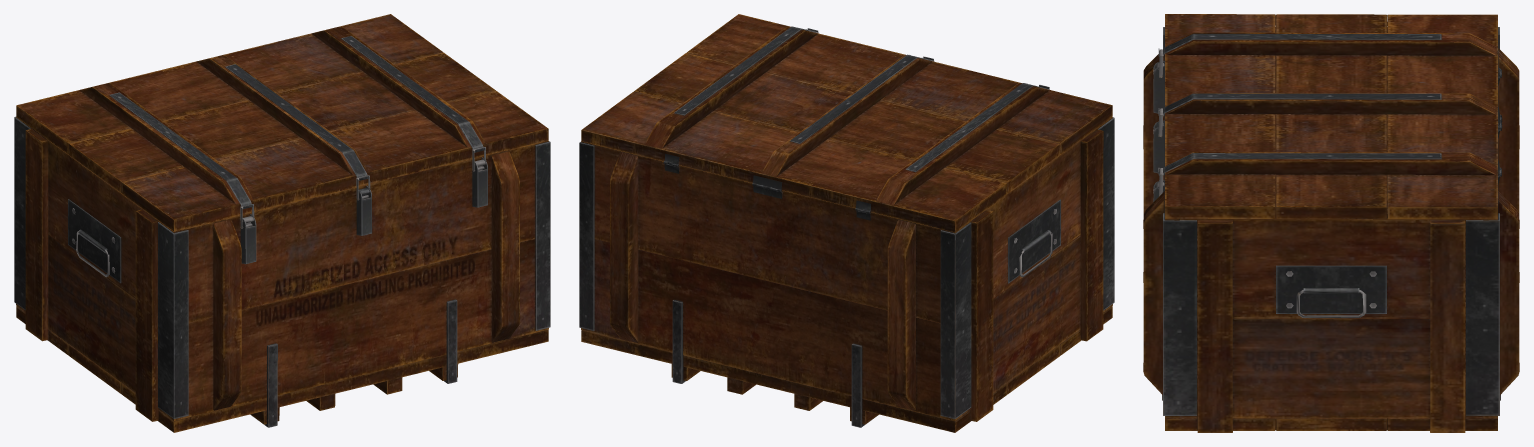
File: supply_crate_mobile.glb
The picture shows the model from 3 angles, left to right: view 1: azimuth 30°, elevation 25°; view 2: azimuth 150°, elevation 25°; view 3: azimuth 270°, elevation 25°; orthographic projection. The views are drawn at different scales.
Visible parts, largest first — view 1: supply_crate; view 2: supply_crate; view 3: supply_crate.
Part boxes in pixels (bbox=[...]): supply_crate: bbox=[14, 14, 550, 432]; supply_crate: bbox=[579, 14, 1114, 432]; supply_crate: bbox=[1143, 14, 1519, 432].
Bounding box in the file's own units: 2.5 × 1.5 × 1.99.
1 material, 1 textured.
